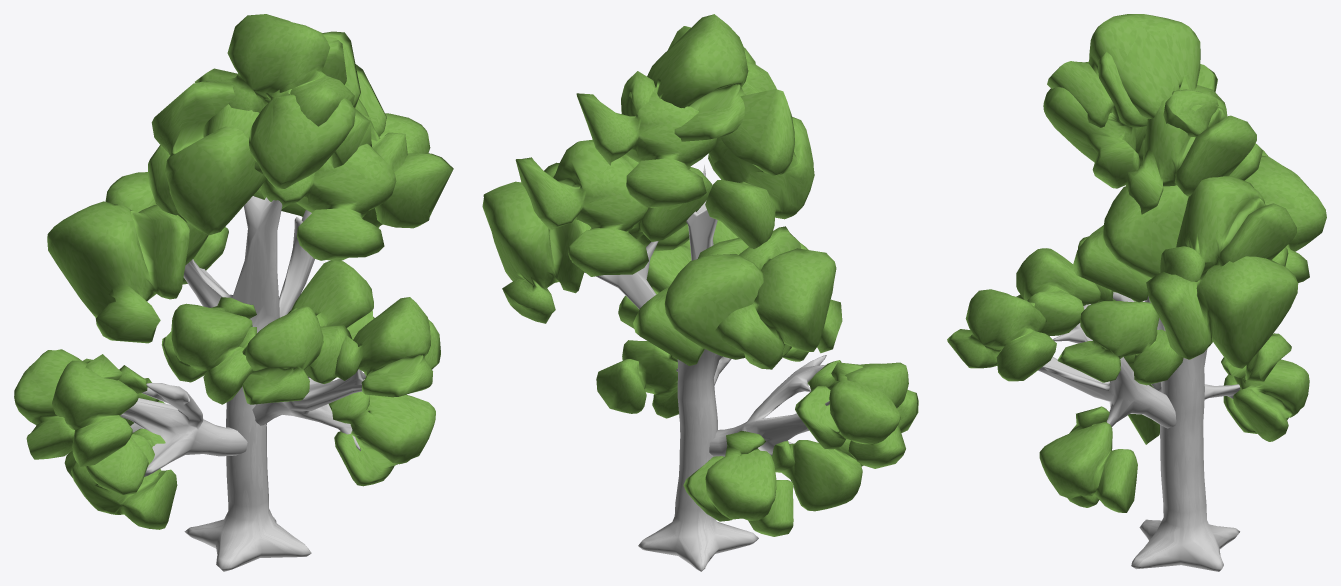
File: Tree2.fbx
3 views of the same model, side by side, from view 1: azimuth 30°, elevation 25°; view 2: azimuth 150°, elevation 25°; view 3: azimuth 270°, elevation 25° (orthographic). The views are drawn at different scales.
Visible parts, largest first — view 1: Tree2; view 2: Tree2; view 3: Tree2.
Boxes of the visible parts, x1,y1,x2,y2 form: Tree2: (14,14,453,571); Tree2: (482,14,918,571); Tree2: (947,14,1326,571).
Size of the model in its own units: 26.33 by 31.89 by 20.22.
